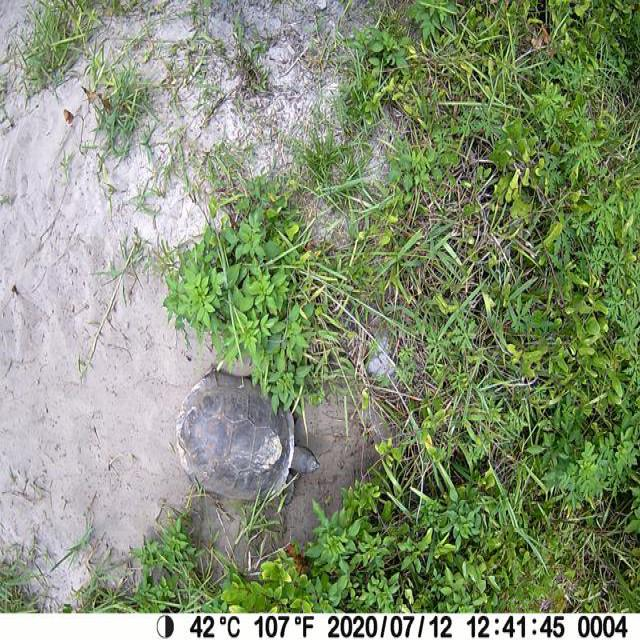tortoise: (173, 364, 319, 508)
